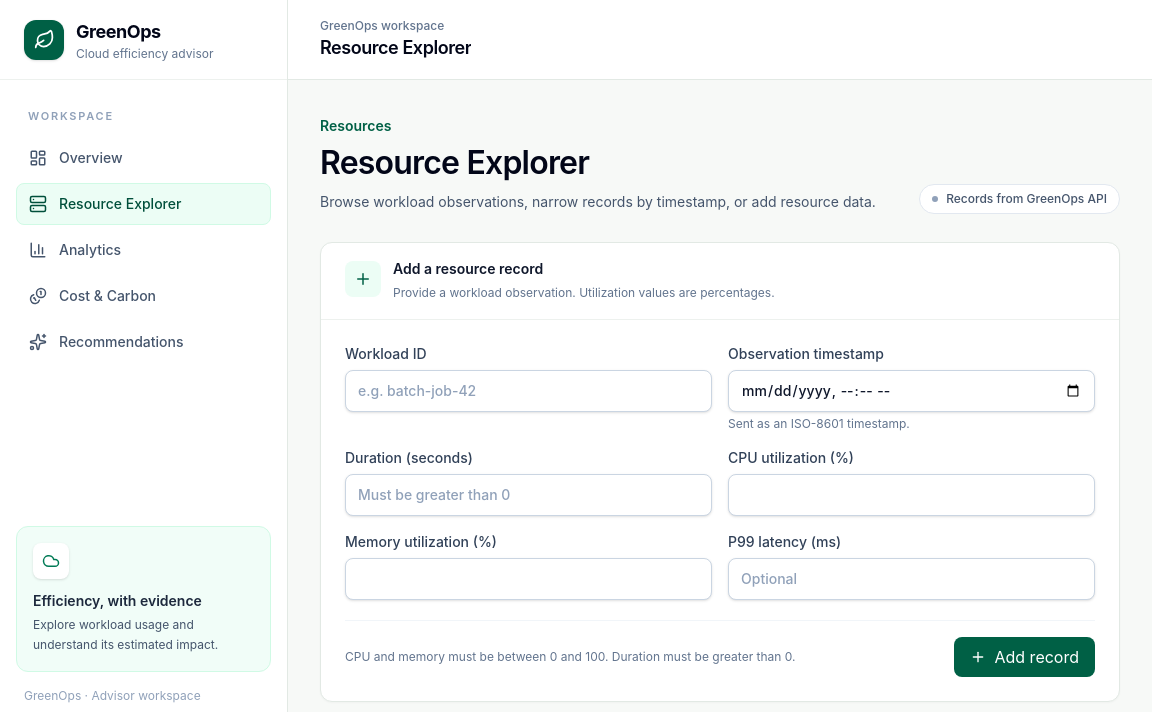
GreenOps routes and page behavior › rejects zero-duration resource records before posting
The image size is (1152, 712).
Type "job" into the field labelled "Workload ID".
click(528, 391); type("job")  # box [345,370,712,412]
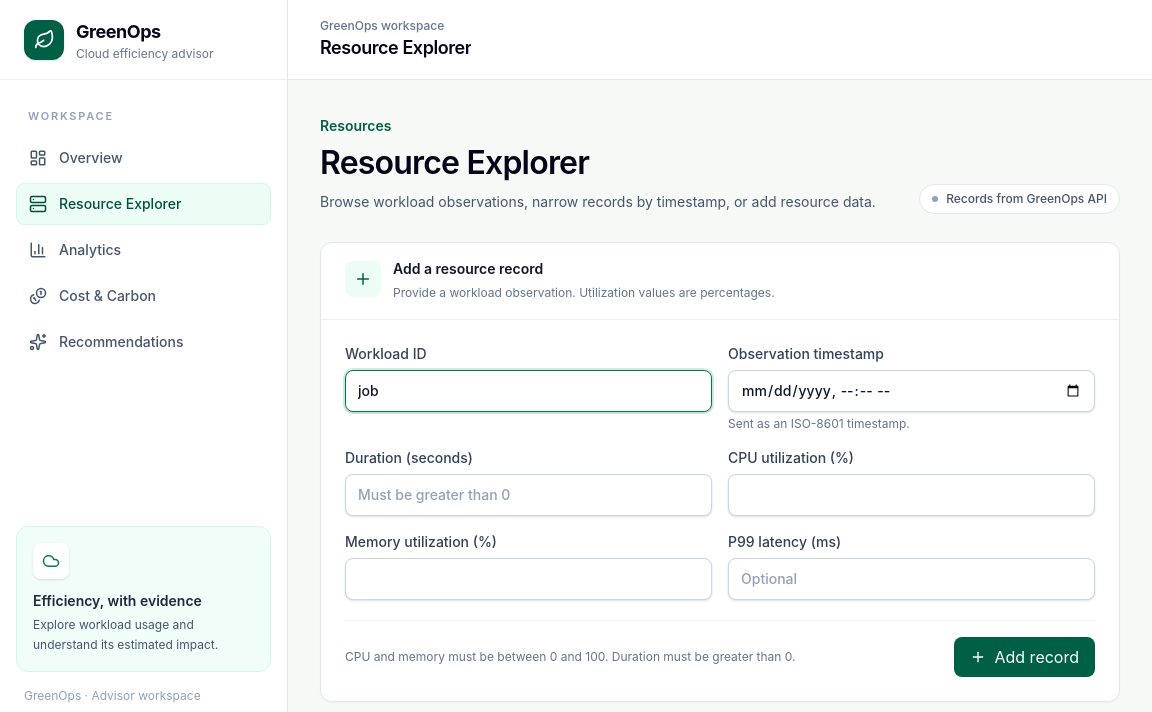
Type "2026-10-15T12:00" into the field labelled "Observation timestamp Sent as an ISO-8601 timestamp.".
click(912, 391); type("2026-10-15T12:00")  # box [728,370,1095,412]
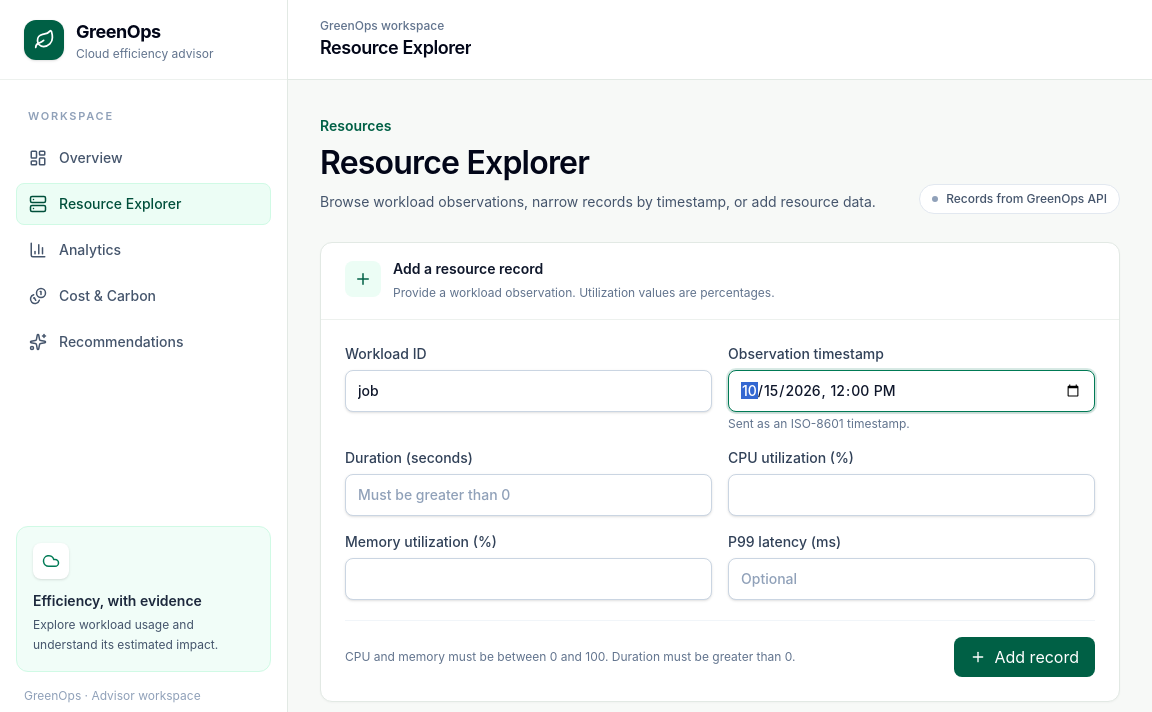
Type "0" into the number field labelled "Duration (seconds)".
click(528, 495); type("0")  # box [345,474,712,516]
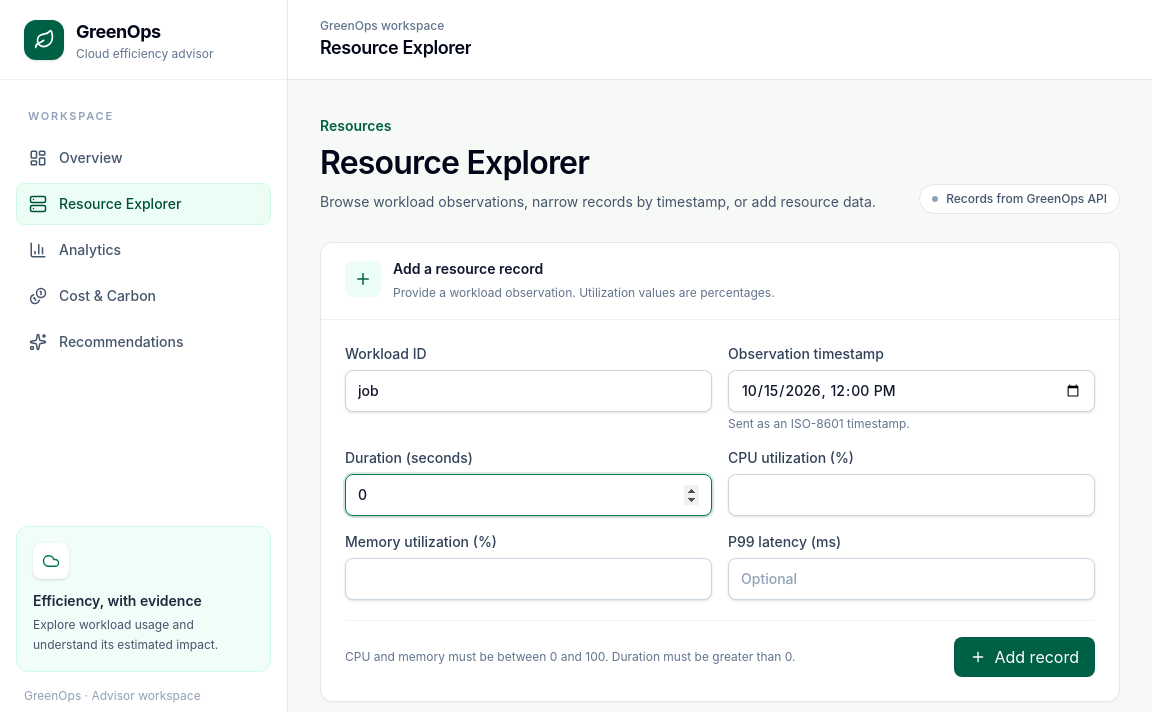
Type "10" into the number field labelled "CPU utilization (%)".
click(912, 495); type("10")  # box [728,474,1095,516]
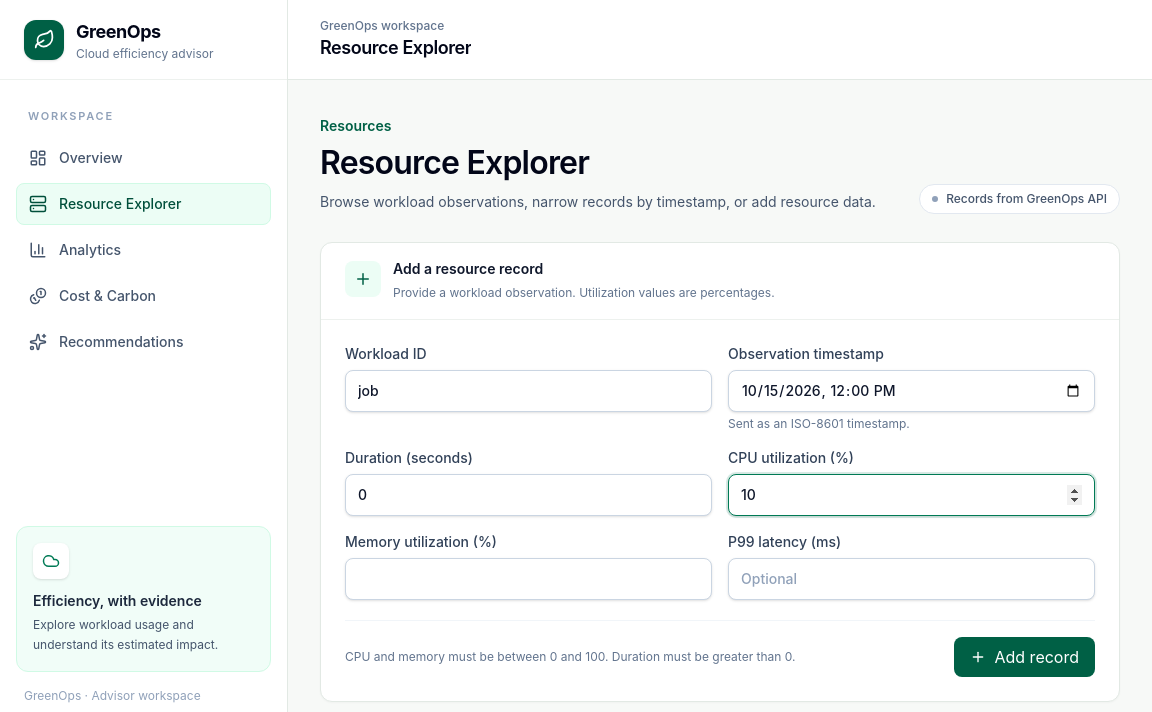
Type "20" into the number field labelled "Memory utilization (%)".
click(528, 579); type("20")  # box [345,558,712,600]
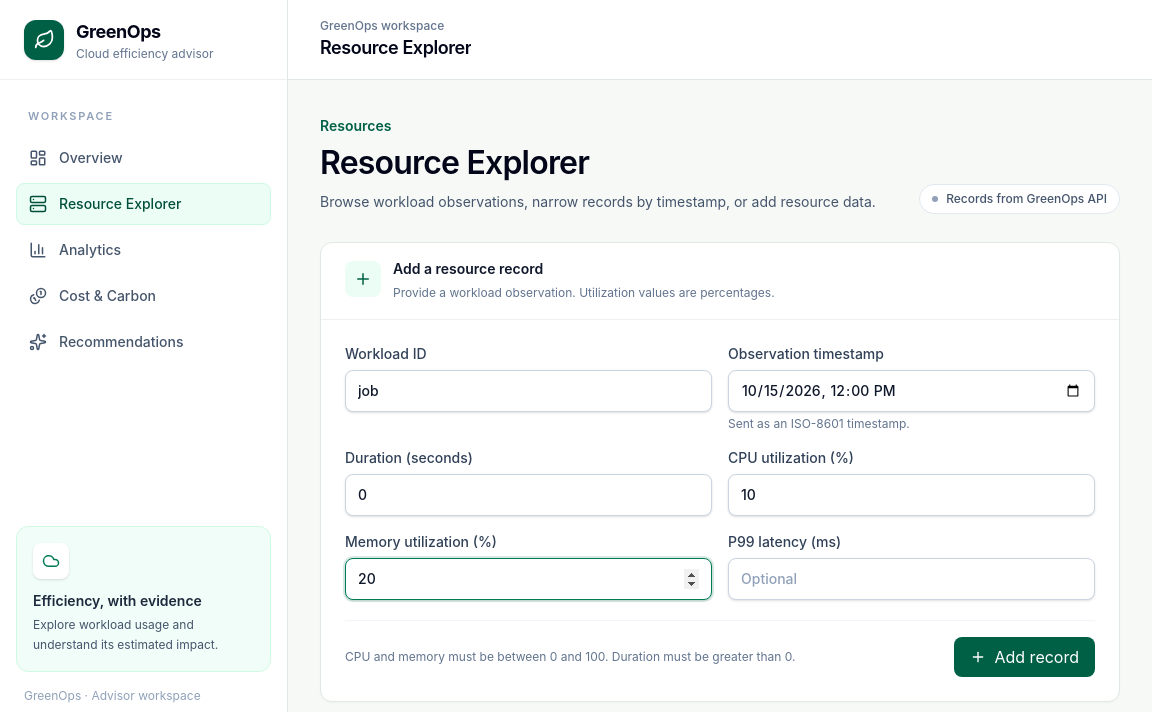
Click the button "Add record".
click(1025, 657)  # box [954,637,1095,677]
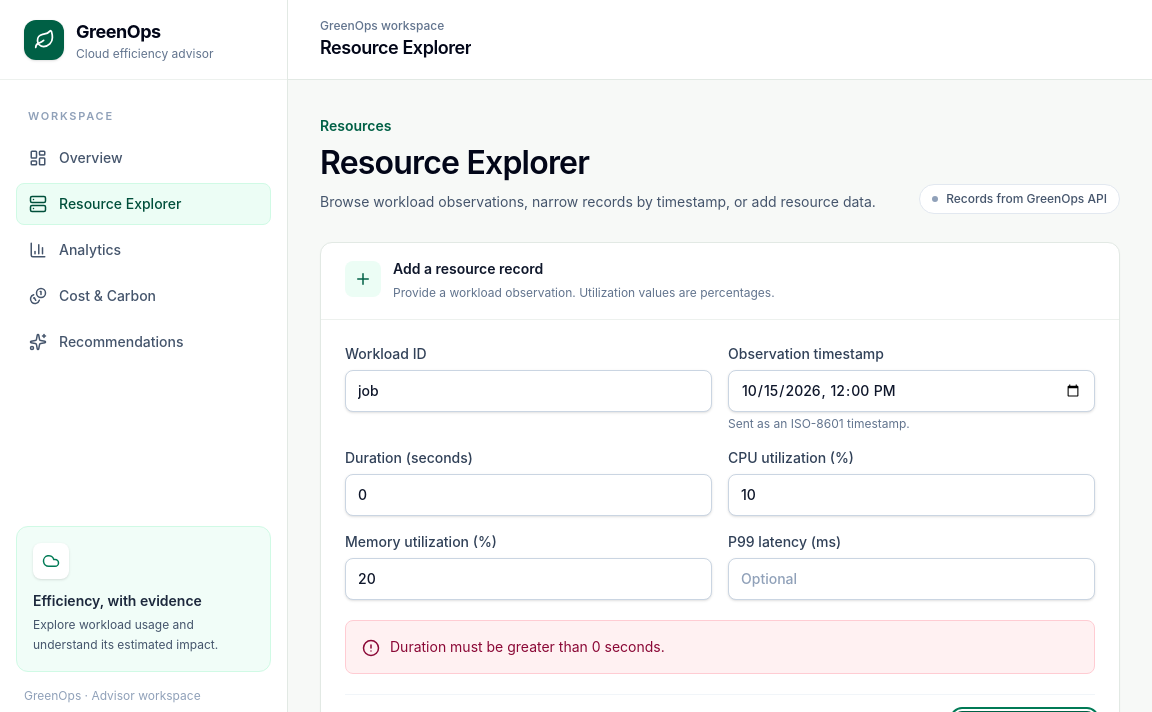
Result: the message reads "Duration must be greater than 0 seconds." at [390,638,665,655]
